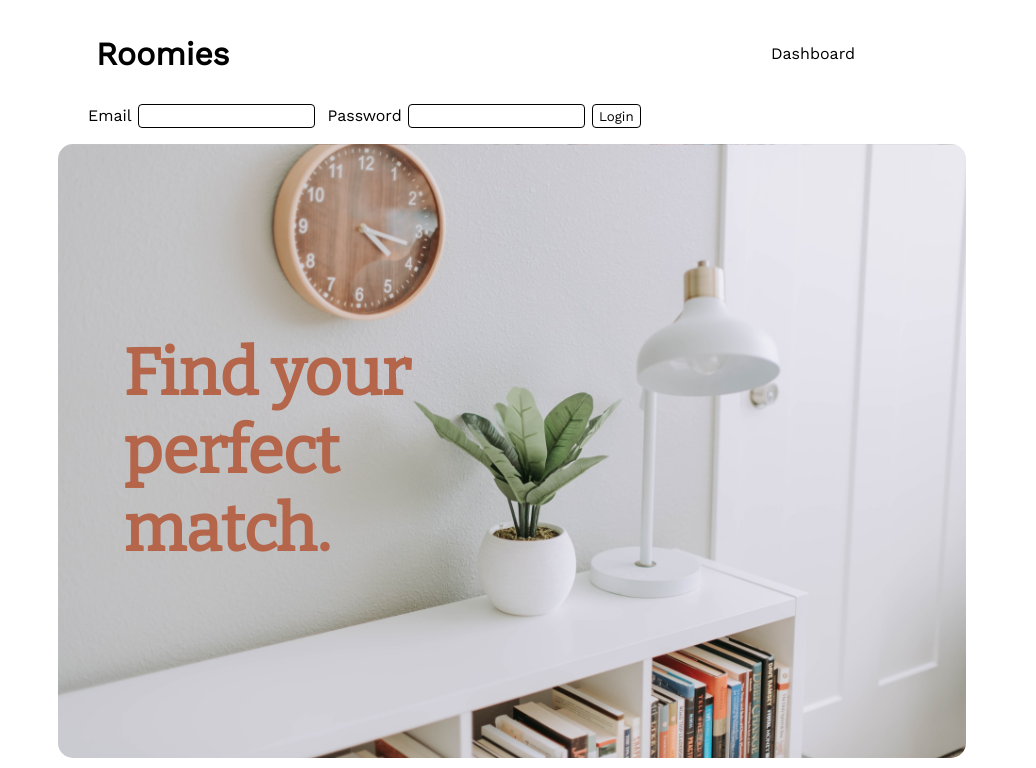
Dashboard with a user › Should not display the logged in user's card once they are logged in
This screenshot has width=1036, height=768.
Type "harrison@email.com" into the field named "userName".
click(227, 116); type("harrison@email.com")  # box [138,104,315,128]
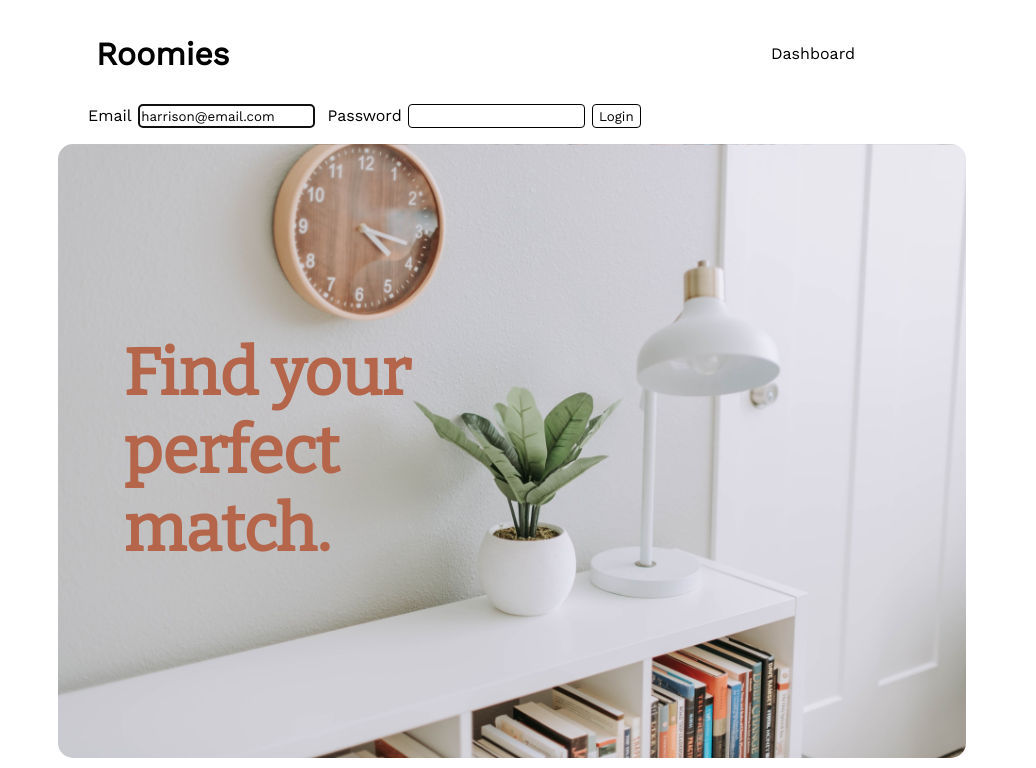
Type "test" into the password field named "password".
click(497, 116); type("test")  # box [408,104,585,128]
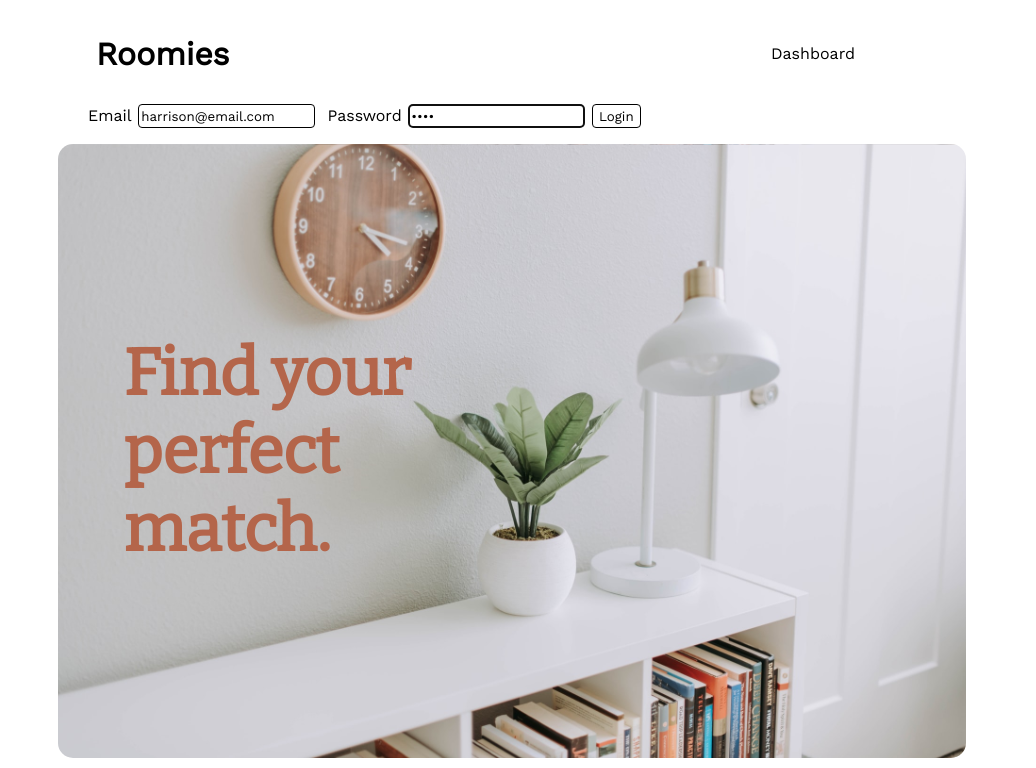
Click the button with class "submit-button".
click(617, 117)  # box [592,105,641,128]
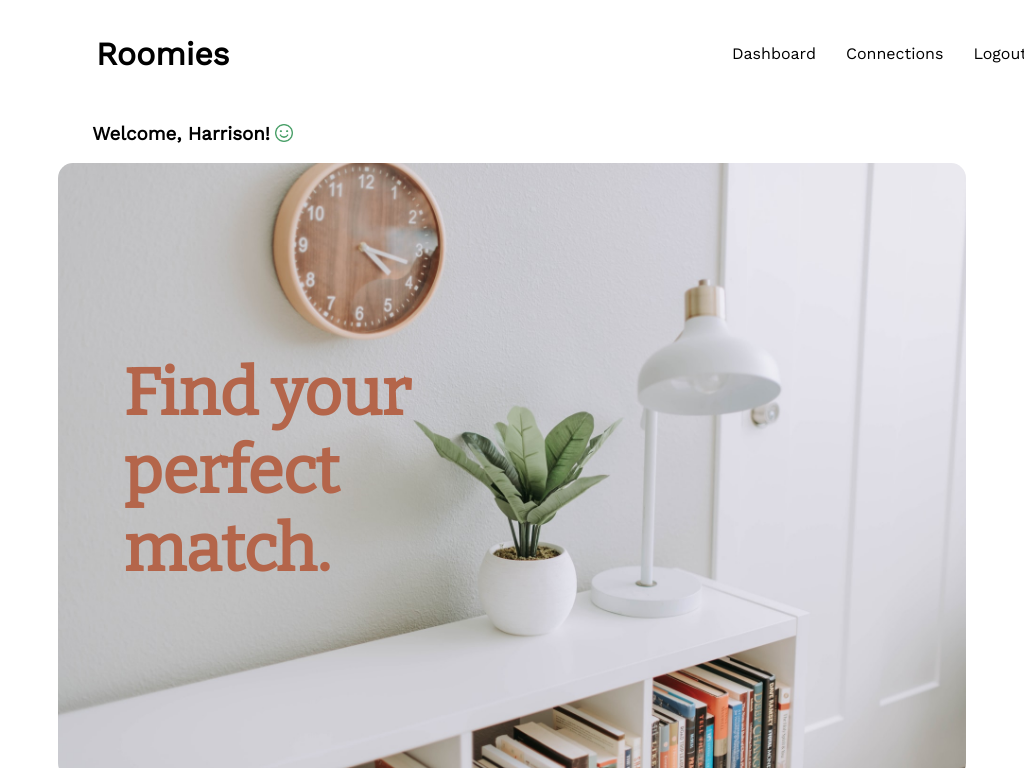
Click the link "Dashboard".
click(774, 54)  # box [732,44,816,63]
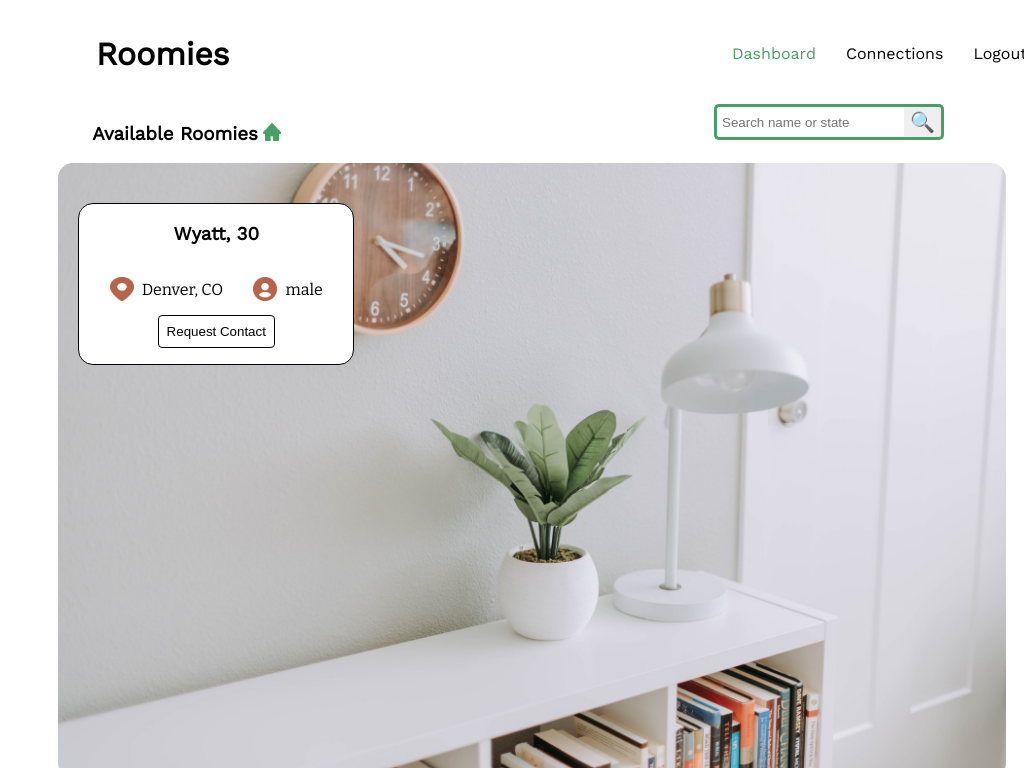
Expected: the heading "Wyatt," is shown, [173,223,230,245]
